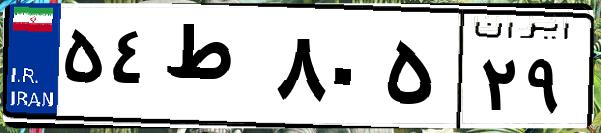0: (330, 28, 385, 110)
2: (475, 38, 525, 113)
4: (110, 28, 158, 98)
5: (385, 28, 445, 110), (57, 26, 110, 100)
8: (270, 28, 330, 110)
9: (525, 38, 570, 115)
ط: (158, 20, 270, 120)
